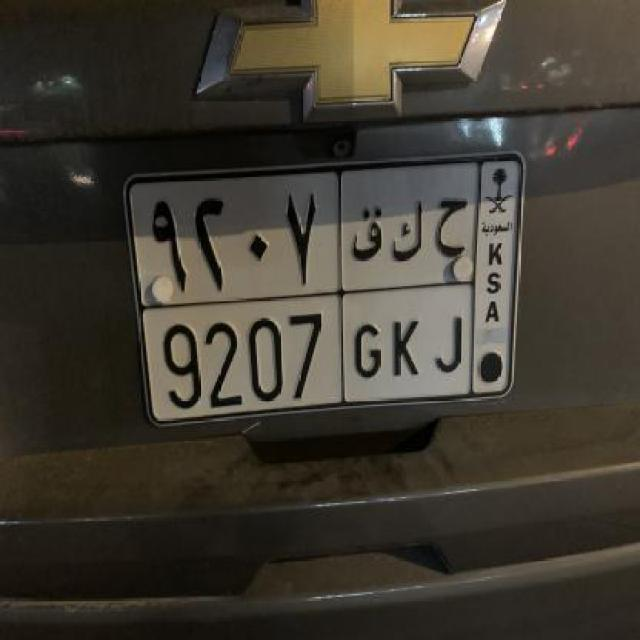license_plate: (120, 143, 532, 440)
